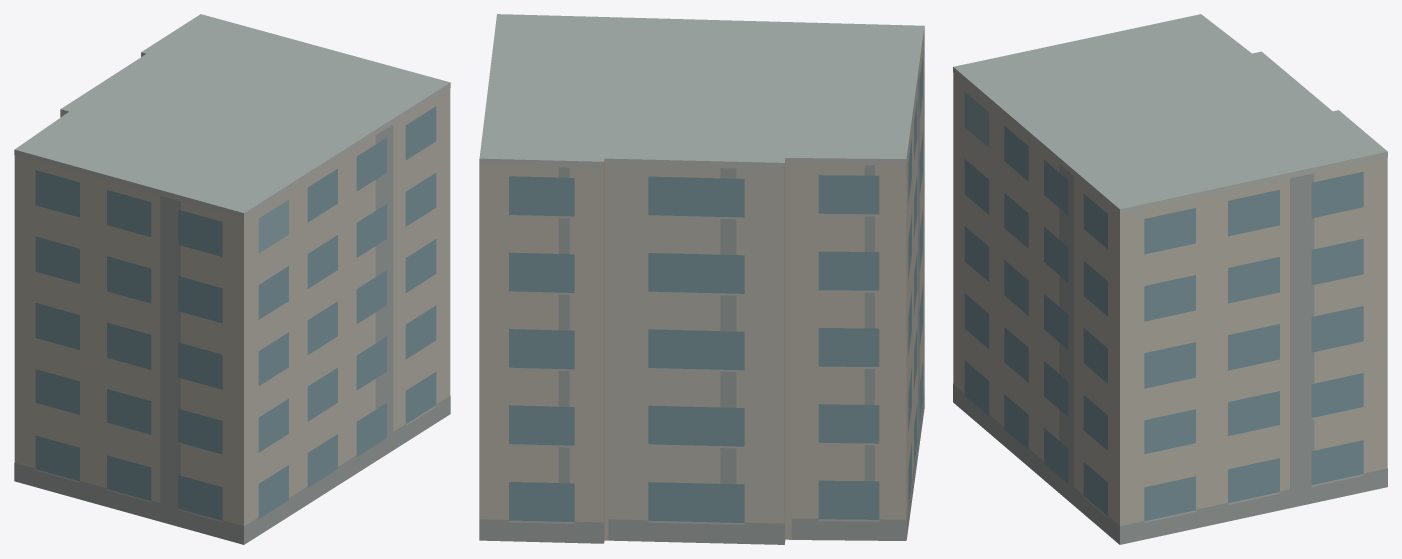
The model's file is survey-upis-32949479.glb.
3 views of the same model, side by side, from view 1: azimuth 30°, elevation 25°; view 2: azimuth 150°, elevation 25°; view 3: azimuth 270°, elevation 25° (orthographic). The views are drawn at different scales.
Parts seen in each view (by area): view 1: survey-upis-32949479.tmp; view 2: survey-upis-32949479.tmp; view 3: survey-upis-32949479.tmp.
Part boxes in pixels (<box>): survey-upis-32949479.tmp: <box>14,14,450,544</box>; survey-upis-32949479.tmp: <box>479,14,924,544</box>; survey-upis-32949479.tmp: <box>953,14,1387,544</box>.
Size of the model in its own units: 17.37 by 13.9 by 16.33.
